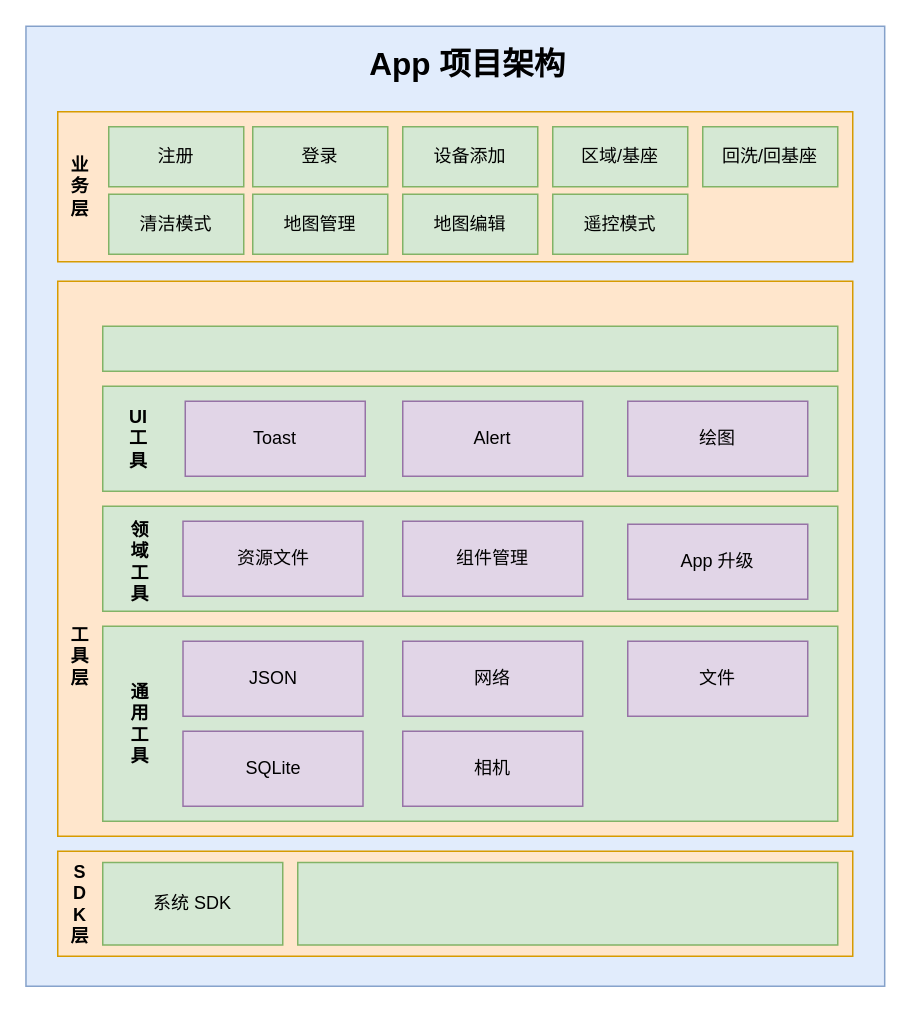
The diagram is 912 pixels wide and 1013 high, and some of its shapes have lost their labels. The shapes that lost their labels are listed below. From the top down, each one's centre as x and y in pixels, then its label:
the point at 469,348: 工具层接口
the point at 567,903: 三方库 Alomafire、SnapKit、SwiftyJSON、OpenCV
